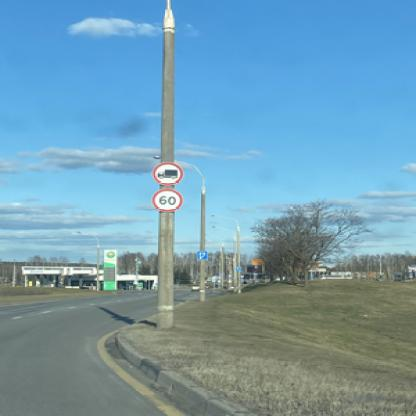speedlimit: (150, 189, 181, 211)
